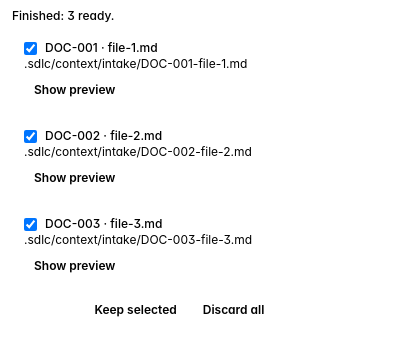
BatchCandidateList: the finished list › keeps only the ticked ones, and is off when none is ticked
The image size is (399, 341).
Click the checkbox named "Keep DOC-002 · file-2.md". click: (30, 136)
box: [24,130,37,142]
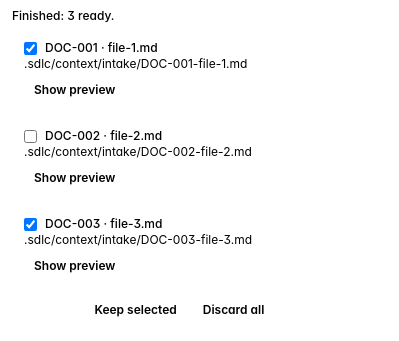
Click the button "Keep selected". click: (136, 310)
box: [84,296,187,324]
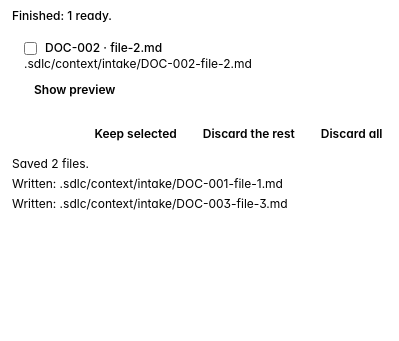
Now the text "Saved 2 files." is shown, box [12,156,89,171]
